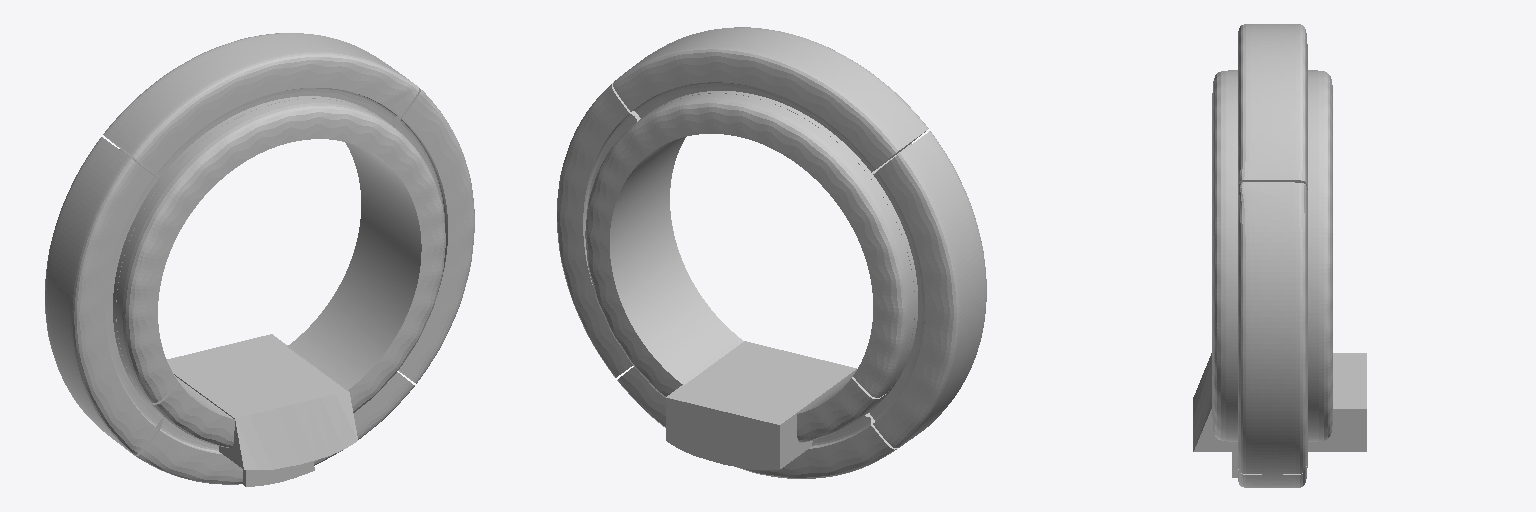
File: portal.obj
The picture shows the model from 3 angles: view 1: azimuth 30°, elevation 25°; view 2: azimuth 150°, elevation 25°; view 3: azimuth 270°, elevation 25°; orthographic projection.
Parts seen in each view (by area): view 1: Цилиндр.001, Цилиндр.002, Куб.003, Куб.002; view 2: Цилиндр.001, Цилиндр.002, Куб.003; view 3: Цилиндр.001, Цилиндр.002, Куб.003.
Part boxes in pixels (bbox=[...]): Цилиндр.001: bbox=[45, 33, 474, 484]; Цилиндр.002: bbox=[116, 99, 445, 447]; Куб.003: bbox=[167, 334, 357, 469]; Куб.002: bbox=[242, 461, 314, 486]; Цилиндр.001: bbox=[557, 27, 986, 478]; Цилиндр.002: bbox=[585, 93, 914, 442]; Куб.003: bbox=[666, 341, 856, 469]; Цилиндр.001: bbox=[1238, 24, 1307, 487]; Цилиндр.002: bbox=[1212, 70, 1332, 441]; Куб.003: bbox=[1193, 353, 1366, 451].
Bounding box in the file's own units: 3.97 × 3.97 × 1.48.